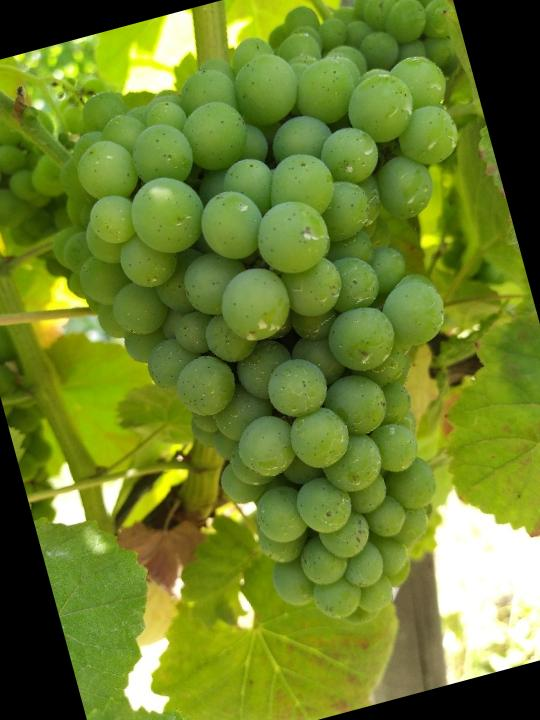grape: (23, 0, 540, 670)
